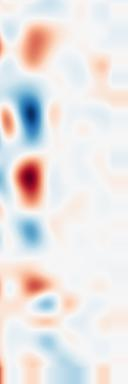filament: (9, 151, 55, 215)
